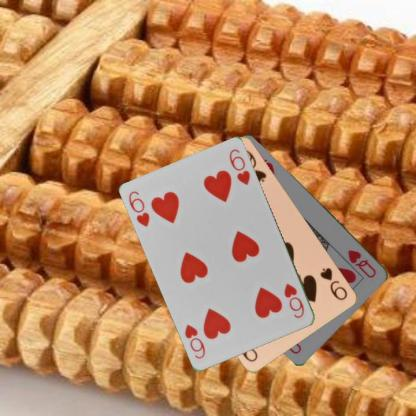6h: (126, 188, 151, 229), (282, 281, 306, 319)
9s: (317, 265, 349, 302)
Qh: (345, 247, 378, 279)
